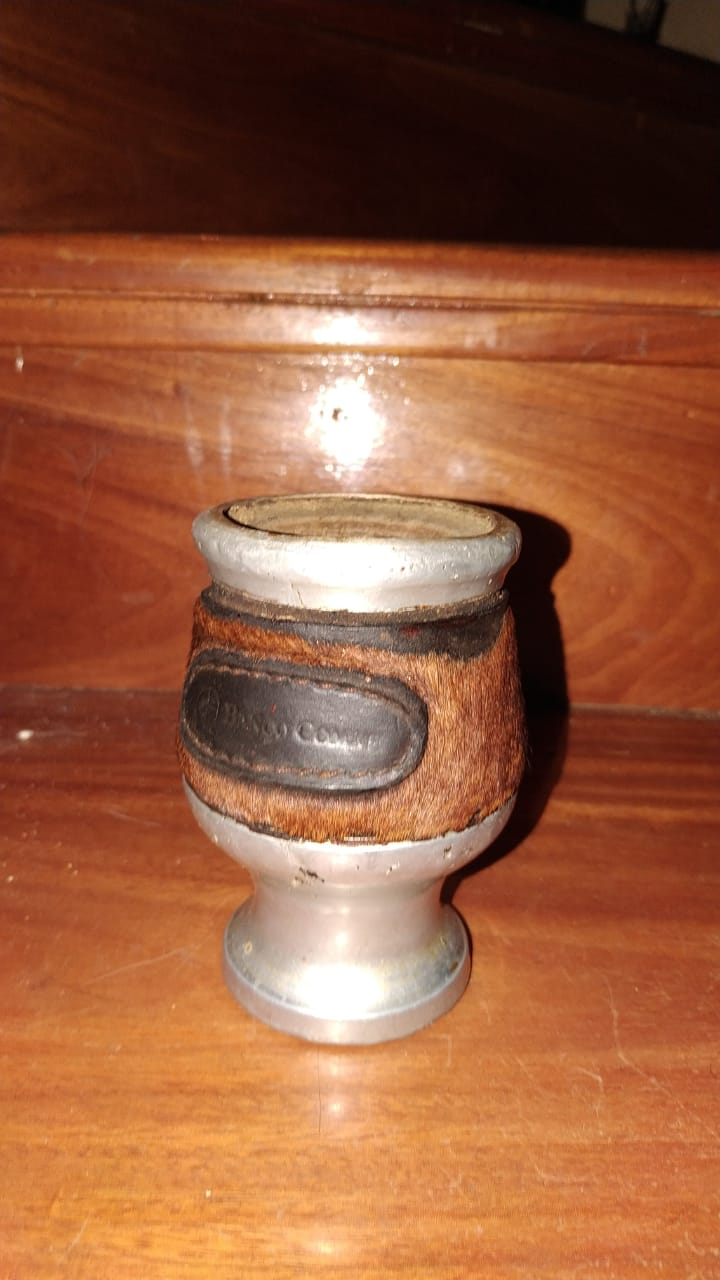mate: (174, 487, 538, 1053)
metal: (172, 485, 536, 1051)
